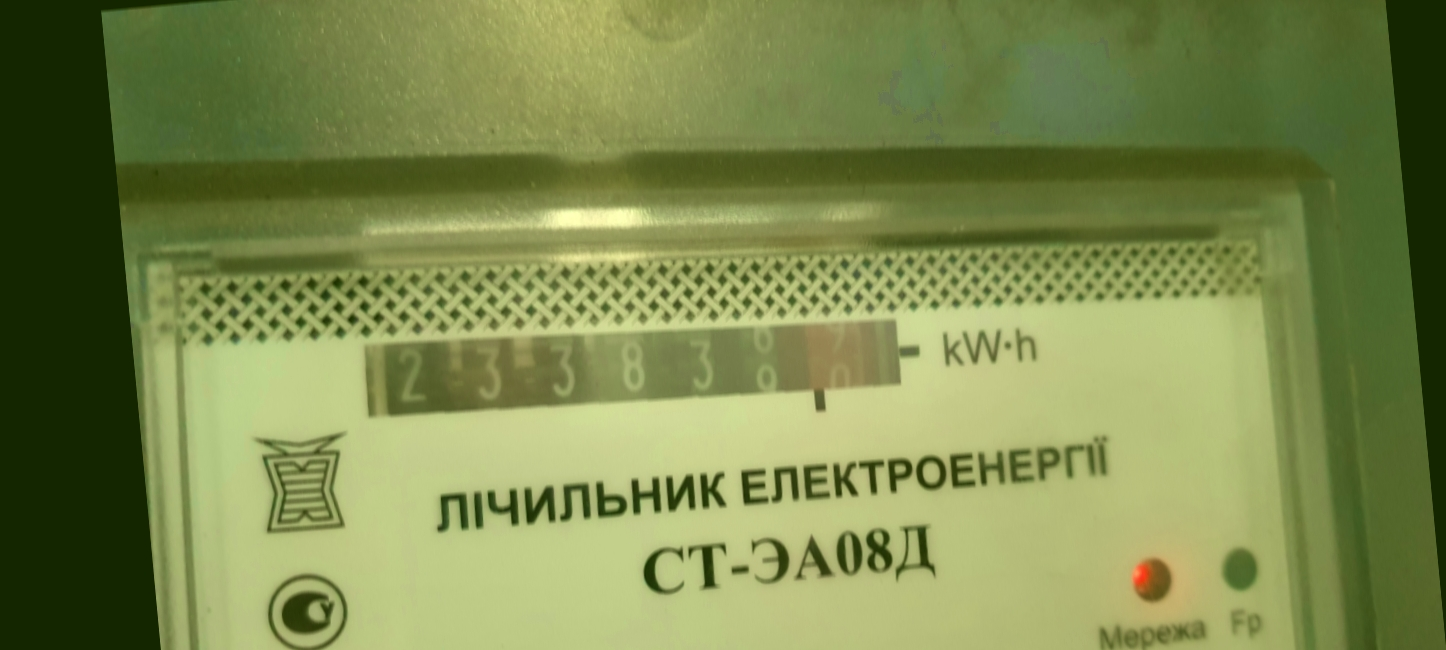0: (826, 359, 856, 395)
2: (391, 343, 435, 407)
3: (542, 336, 583, 403), (473, 342, 506, 402), (687, 332, 720, 392)
8: (614, 334, 653, 395), (751, 321, 780, 355)
9: (820, 316, 854, 357), (753, 359, 784, 397)
screen: (332, 270, 937, 481)
